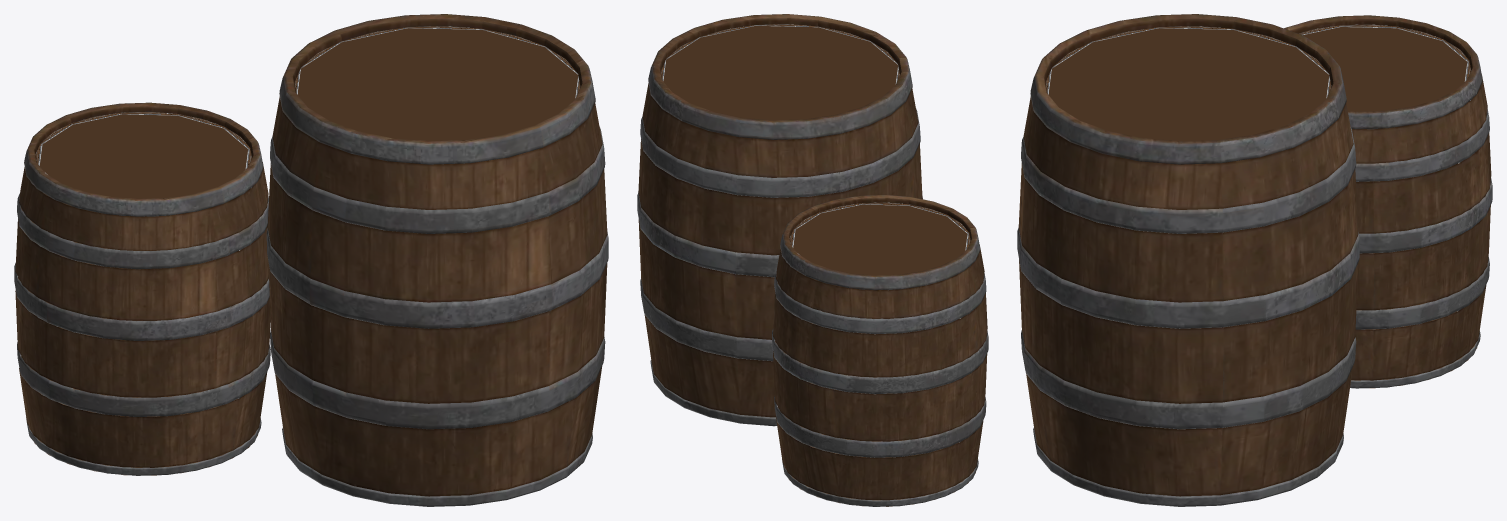
The model's file is Furn_Drum.glb.
3 views of the same model, side by side, from view 1: azimuth 30°, elevation 25°; view 2: azimuth 150°, elevation 25°; view 3: azimuth 270°, elevation 25° (orthographic). The views are drawn at different scales.
Visible parts, largest first — view 1: Furn_Drum; view 2: Furn_Drum; view 3: Furn_Drum.
Boxes of the visible parts, box(x1,y1,x2,y2) form: Furn_Drum: box(14, 14, 608, 506); Furn_Drum: box(637, 14, 988, 506); Furn_Drum: box(1017, 14, 1492, 506).
Bounding box in the file's own units: 0.8139 × 0.6055 × 0.7171.
Materials: 1 (1 with a texture image).
